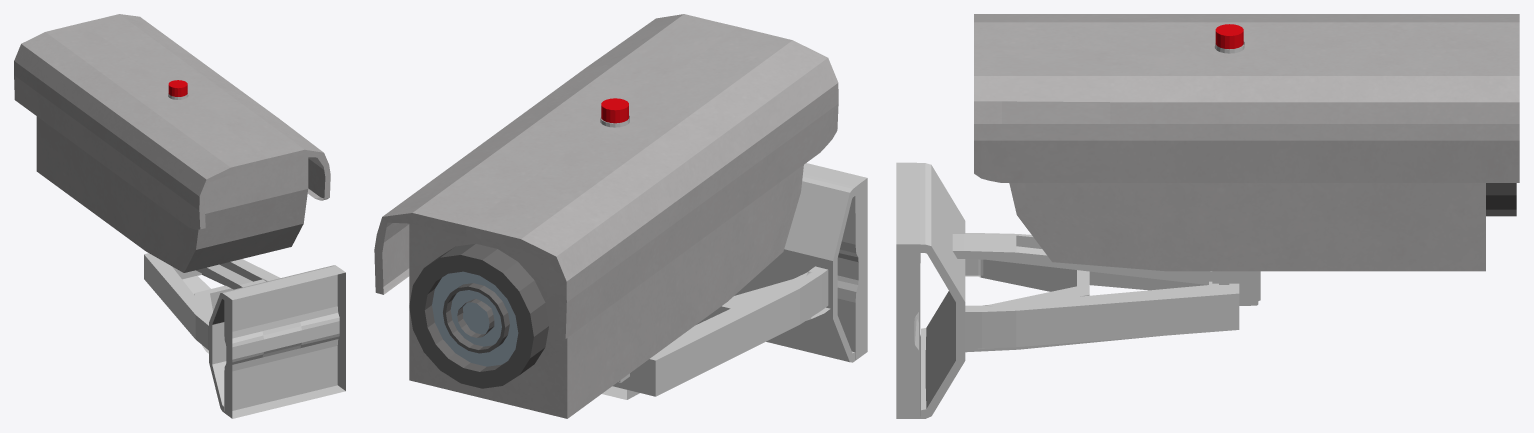
File: CCTV.fbx
3 renders of one model, left to right at view 1: azimuth 30°, elevation 25°; view 2: azimuth 150°, elevation 25°; view 3: azimuth 270°, elevation 25°, orthographic. The views are drawn at different scales.
Parts seen in each view (by area): view 1: CCTV, Base; view 2: CCTV, Base, Active_Light; view 3: CCTV, Base, Active_Light.
Boxes of the visible parts, x1,y1,x2,y2 form: CCTV: (14,14,330,272); Base: (144,253,345,418); CCTV: (374,14,838,418); Base: (602,163,867,399); Active_Light: (601,98,628,123); CCTV: (974,14,1519,271); Base: (896,162,1260,418); Active_Light: (1215,24,1243,49).
Bounding box in the file's own units: 0.1175 × 0.3285 × 0.2032.
Materials: 2 (1 with a texture image).
